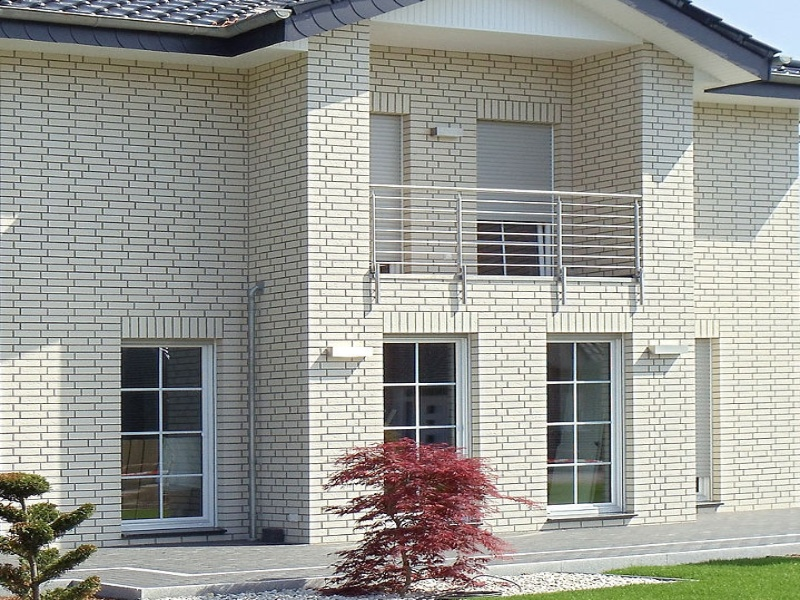window: (112, 322, 216, 529), (547, 328, 620, 515), (383, 329, 468, 450)
